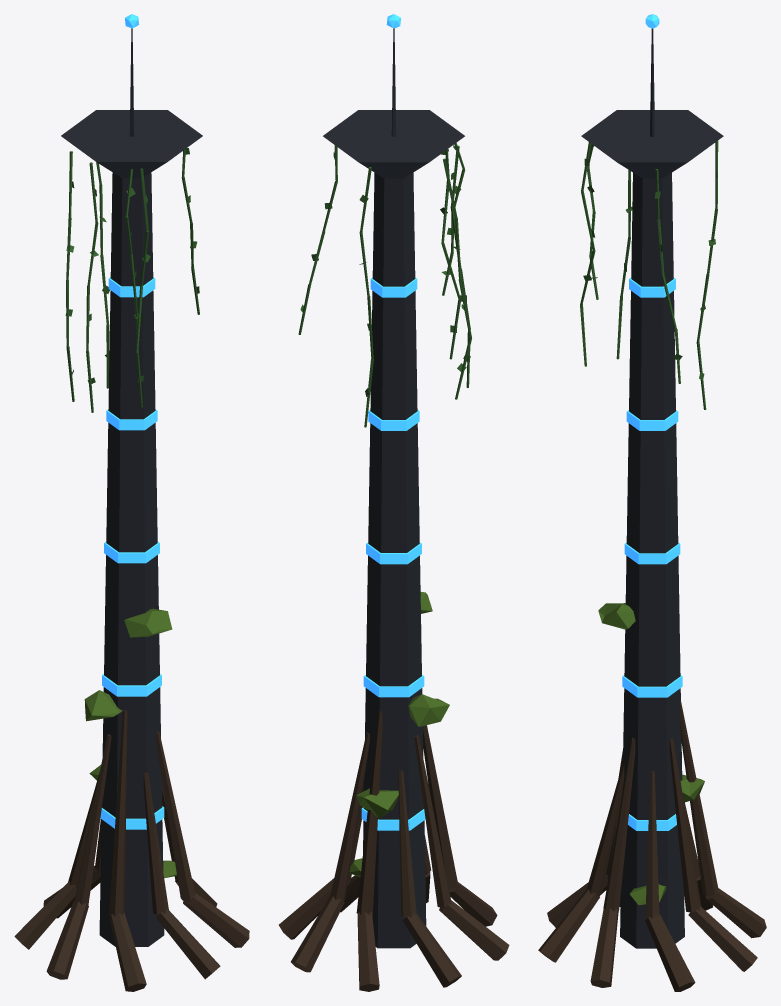
Rendered from pylon.glb.
3 renders of one model, left to right at view 1: azimuth 30°, elevation 25°; view 2: azimuth 150°, elevation 25°; view 3: azimuth 270°, elevation 25°, orthographic.
Visible parts, largest first — view 1: Pylon; view 2: Pylon; view 3: Pylon.
Boxes of the visible parts, box(x1,y1,x2,y2) form: Pylon: box(14, 14, 249, 991); Pylon: box(279, 14, 509, 991); Pylon: box(538, 14, 766, 991).
Bounding box in the file's own units: 7.04 × 31.8 × 7.04.
